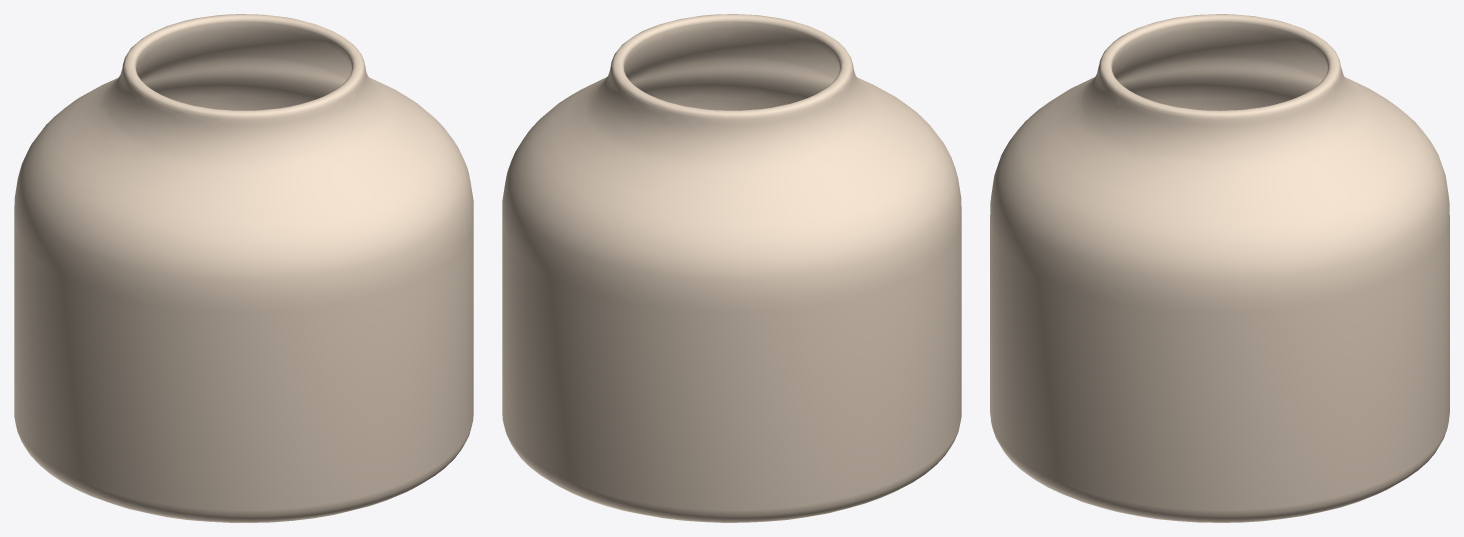
The model's file is blodbjork_wazon_90607297.glb.
The picture shows the model from 3 angles, left to right: view 1: azimuth 30°, elevation 25°; view 2: azimuth 150°, elevation 25°; view 3: azimuth 270°, elevation 25°; orthographic projection.
Parts seen in each view (by area): view 1: blodbjork_wazon_90607297; view 2: blodbjork_wazon_90607297; view 3: blodbjork_wazon_90607297.
Part boxes in pixels (box(x1,y1,x2,y2)): blodbjork_wazon_90607297: box(14, 14, 473, 522); blodbjork_wazon_90607297: box(502, 14, 961, 522); blodbjork_wazon_90607297: box(990, 14, 1449, 522).
Size of the model in its own units: 0.1798 by 0.1601 by 0.1798.
Materials: 2 (2 with a texture image).
